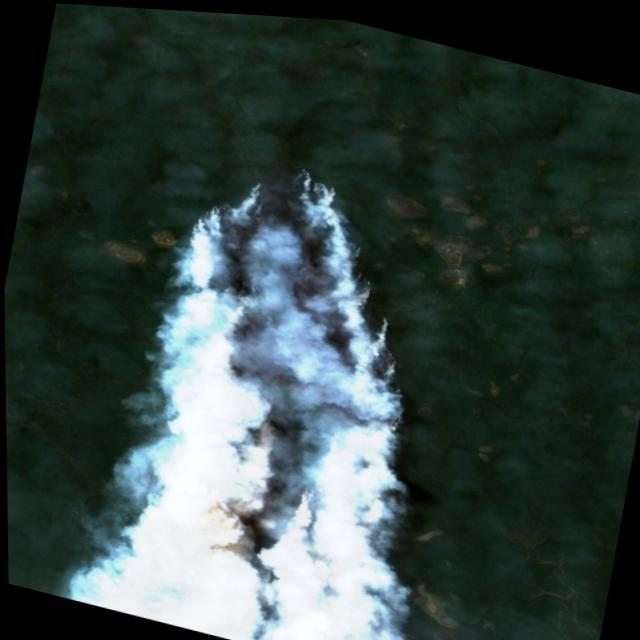fire: (117, 134, 460, 605)
